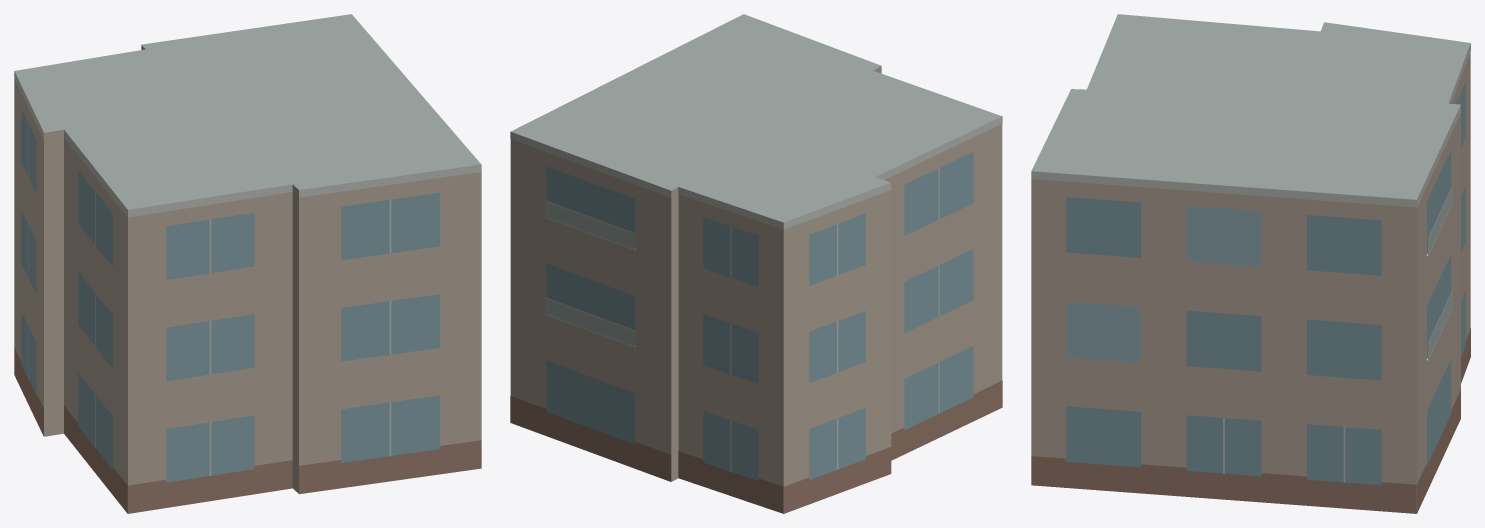
Rendered from survey-upis-32752818.glb.
The picture shows the model from 3 angles, left to right: view 1: azimuth 30°, elevation 25°; view 2: azimuth 150°, elevation 25°; view 3: azimuth 270°, elevation 25°; orthographic projection. The views are drawn at different scales.
Visible parts, largest first — view 1: survey-upis-32752818.tmp; view 2: survey-upis-32752818.tmp; view 3: survey-upis-32752818.tmp.
Boxes of the visible parts, <box> form: survey-upis-32752818.tmp: <box>14,14,481,513</box>; survey-upis-32752818.tmp: <box>510,14,1002,513</box>; survey-upis-32752818.tmp: <box>1031,14,1470,513</box>.
Bounding box in the file's own units: 12.45 × 9.8 × 12.44.
